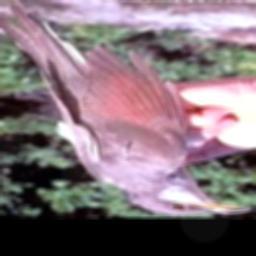Cuckoo: (0, 0, 250, 216)
